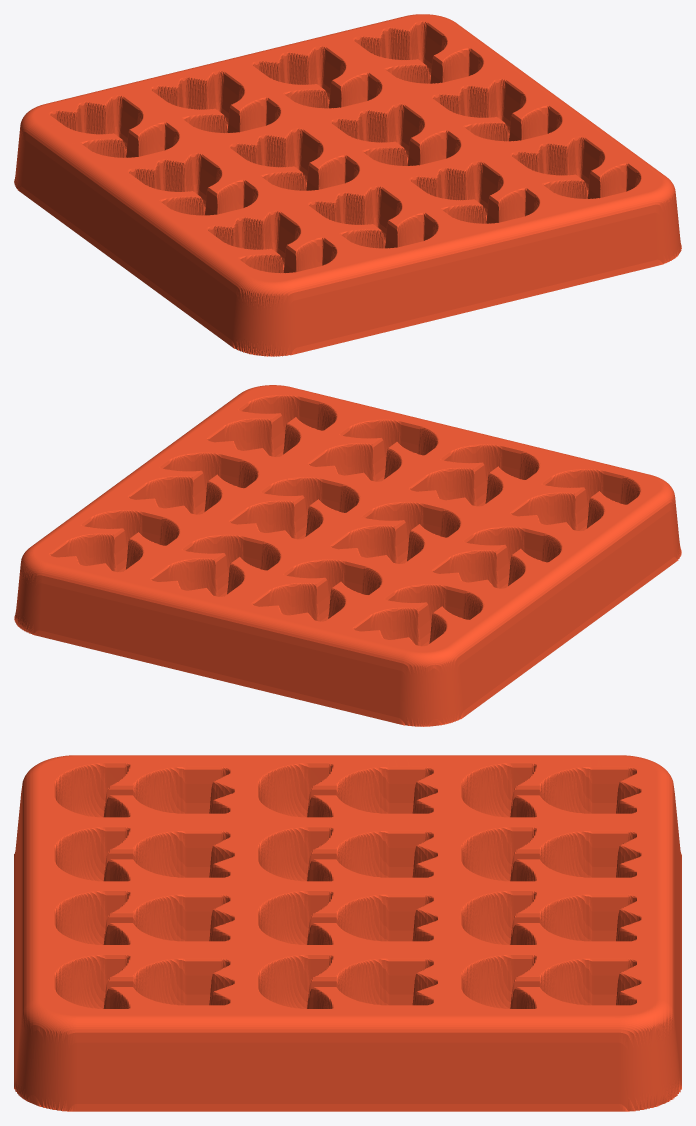
Rendered from mold.glb.
The picture shows the model from 3 angles, top to bottom: view 1: azimuth 30°, elevation 25°; view 2: azimuth 150°, elevation 25°; view 3: azimuth 270°, elevation 25°; orthographic projection. The views are drawn at different scales.
Parts seen in each view (by area): view 1: geometry_0; view 2: geometry_0; view 3: geometry_0.
Part boxes in pixels (bbox=[...]): geometry_0: bbox=[14, 14, 681, 356]; geometry_0: bbox=[14, 385, 681, 726]; geometry_0: bbox=[14, 755, 681, 1111].
Size of the model in its own units: 0.0955 by 0.0136 by 0.0963.
